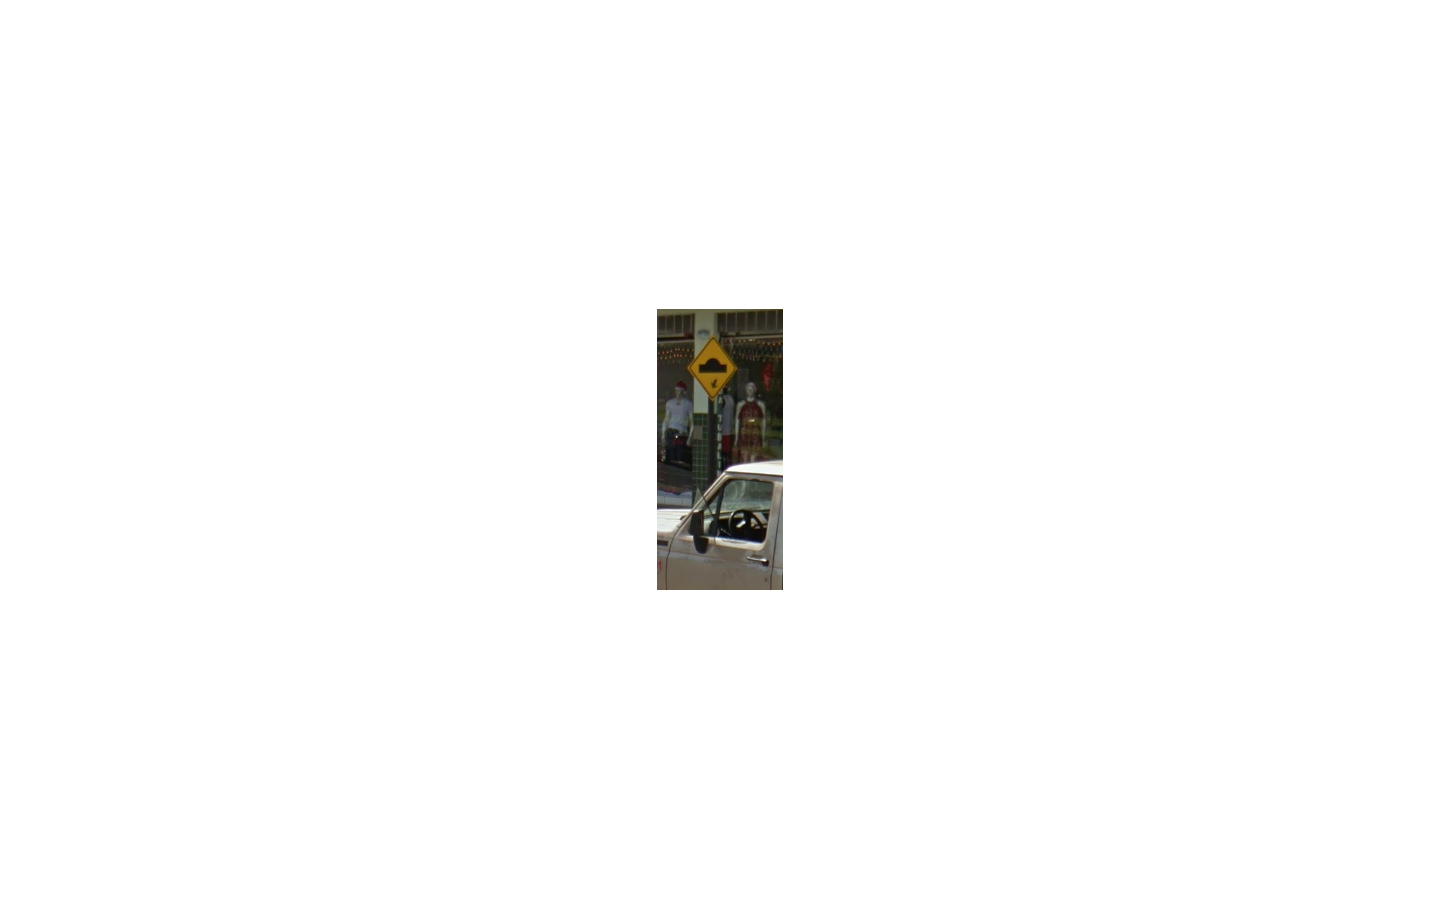lomb: (685, 335, 738, 402)
